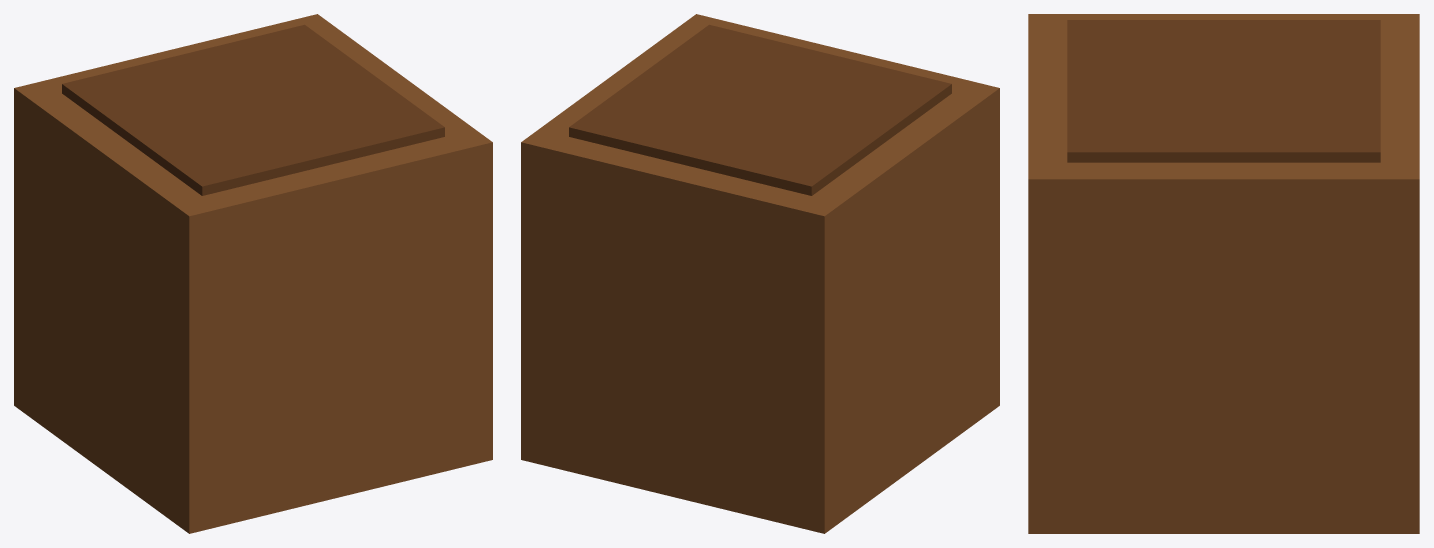
File: garden2_compost_bin.glb
3 views of the same model, side by side, from view 1: azimuth 30°, elevation 25°; view 2: azimuth 150°, elevation 25°; view 3: azimuth 270°, elevation 25° (orthographic). The views are drawn at different scales.
Parts seen in each view (by area): view 1: compost_bin; view 2: compost_bin; view 3: compost_bin.
Part boxes in pixels (x1,y1,x2,y2): compost_bin: [14, 14, 492, 533]; compost_bin: [521, 14, 999, 533]; compost_bin: [1028, 14, 1419, 533].
Size of the model in its own units: 0.5 by 0.515 by 0.5.
